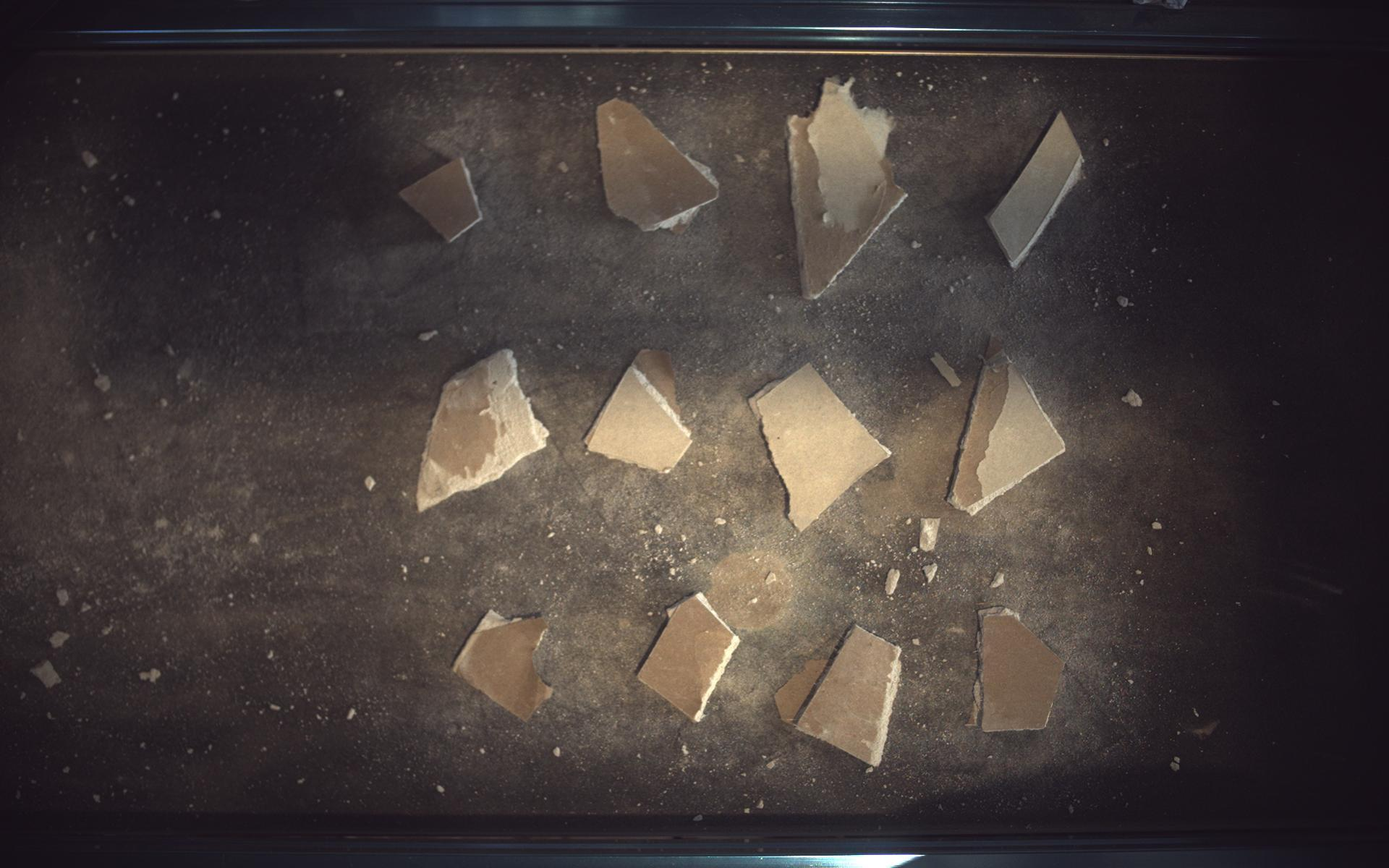gypsum_board: (789, 77, 908, 299), (749, 364, 893, 531), (417, 349, 549, 512), (950, 336, 1068, 515), (776, 626, 903, 767), (598, 97, 721, 232), (988, 110, 1086, 268), (585, 349, 693, 473), (639, 593, 741, 723), (452, 610, 553, 722), (980, 608, 1066, 733), (399, 157, 482, 242)
